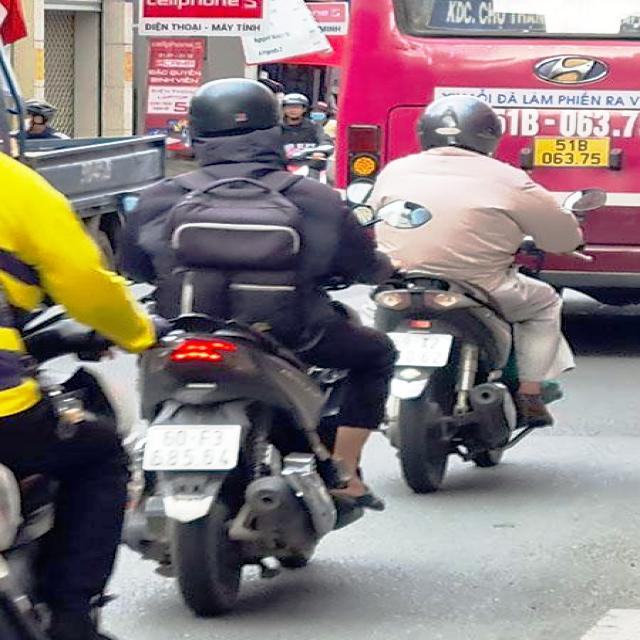license_plate: (145, 425, 247, 472)
